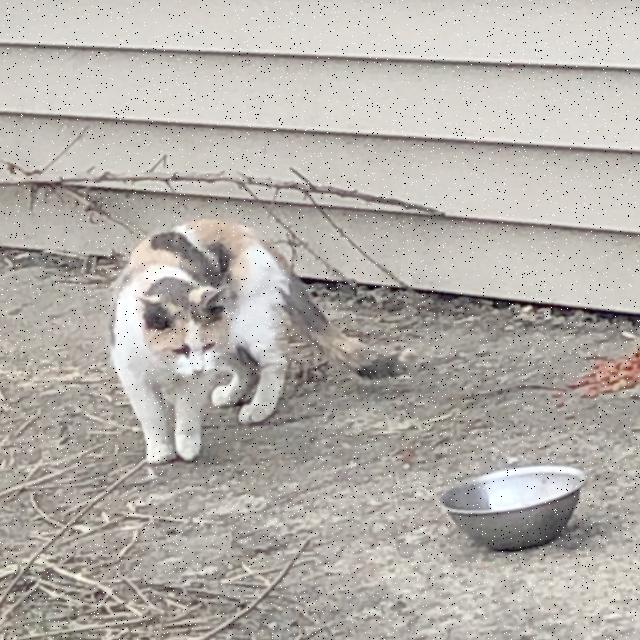cat: (110, 219, 405, 464)
